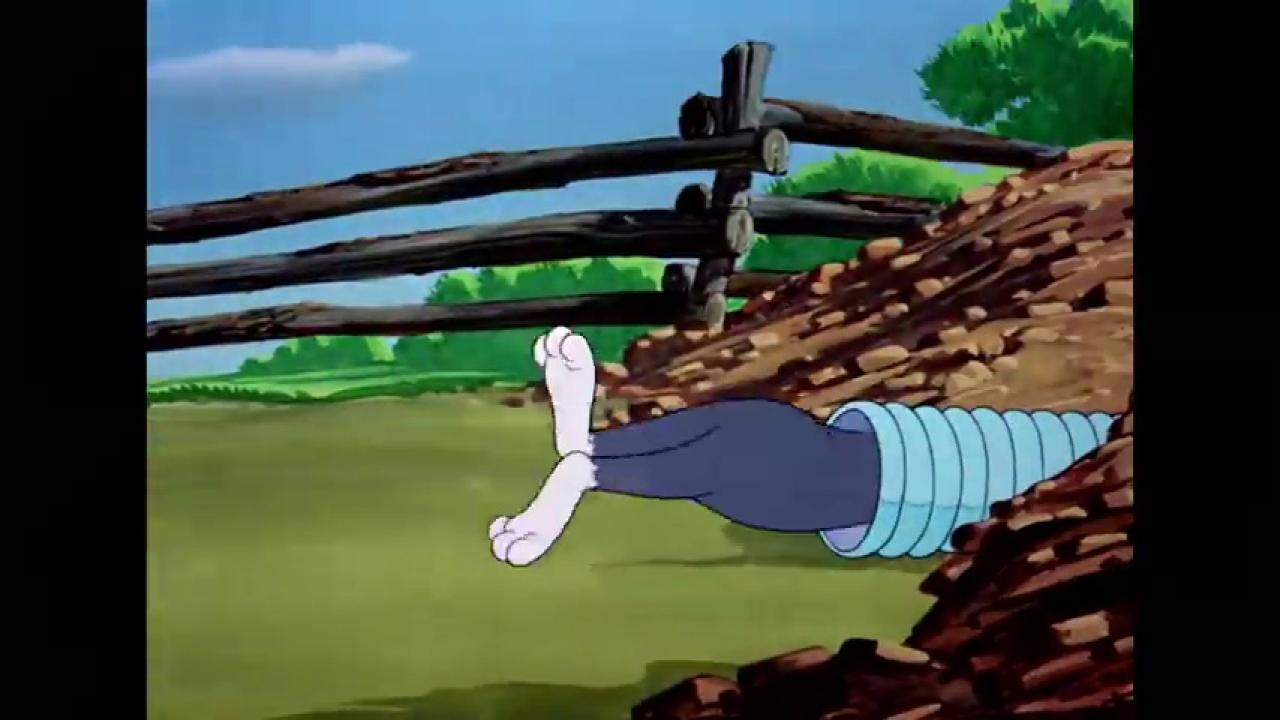Tom: (484, 323, 880, 569)
